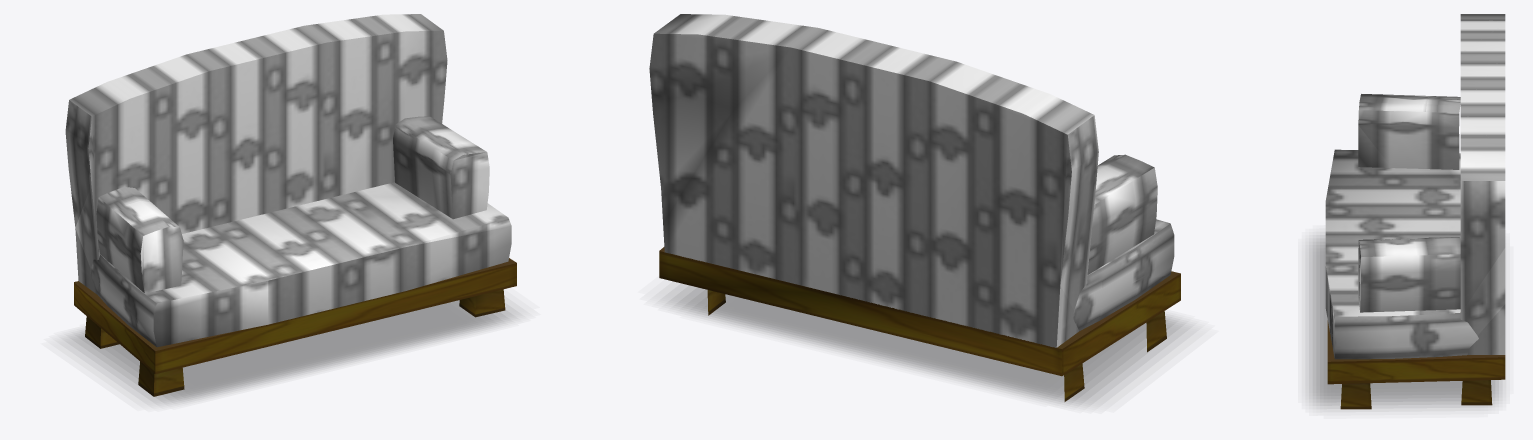
File: couch_2personDesat.glb
The picture shows the model from 3 angles, left to right: view 1: azimuth 30°, elevation 25°; view 2: azimuth 150°, elevation 25°; view 3: azimuth 270°, elevation 25°; orthographic projection. The views are drawn at different scales.
Visible parts, largest first — view 1: random_to1_TI_couch, frame_base, drop_shadow; view 2: random_to1_TI_couch, frame_base, drop_shadow; view 3: random_to1_TI_couch, frame_base, drop_shadow.
Part boxes in pixels (x1=…): random_to1_TI_couch: x1=65, y1=14, x2=511, y2=347; frame_base: x1=74, y1=258, x2=516, y2=396; drop_shadow: x1=64, y1=300, x2=518, y2=404; random_to1_TI_couch: x1=649, y1=14, x2=1174, y2=347; frame_base: x1=659, y1=247, x2=1180, y2=401; drop_shadow: x1=662, y1=284, x2=1190, y2=404; random_to1_TI_couch: x1=1325, y1=14, x2=1505, y2=359; frame_base: x1=1327, y1=320, x2=1505, y2=409; drop_shadow: x1=1309, y1=235, x2=1502, y2=408.
Size of the model in its own units: 7.26 by 3.95 by 3.38.
3 materials, 3 textured.
